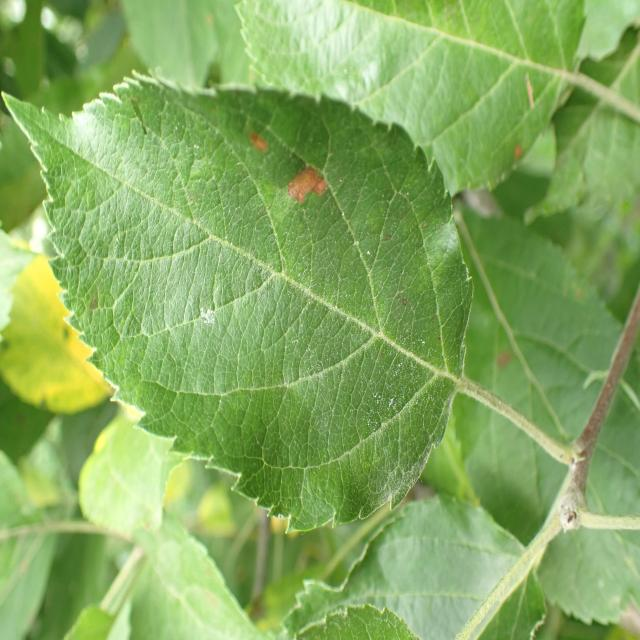frog-eye-leaf-spot: (2, 68, 474, 532)
